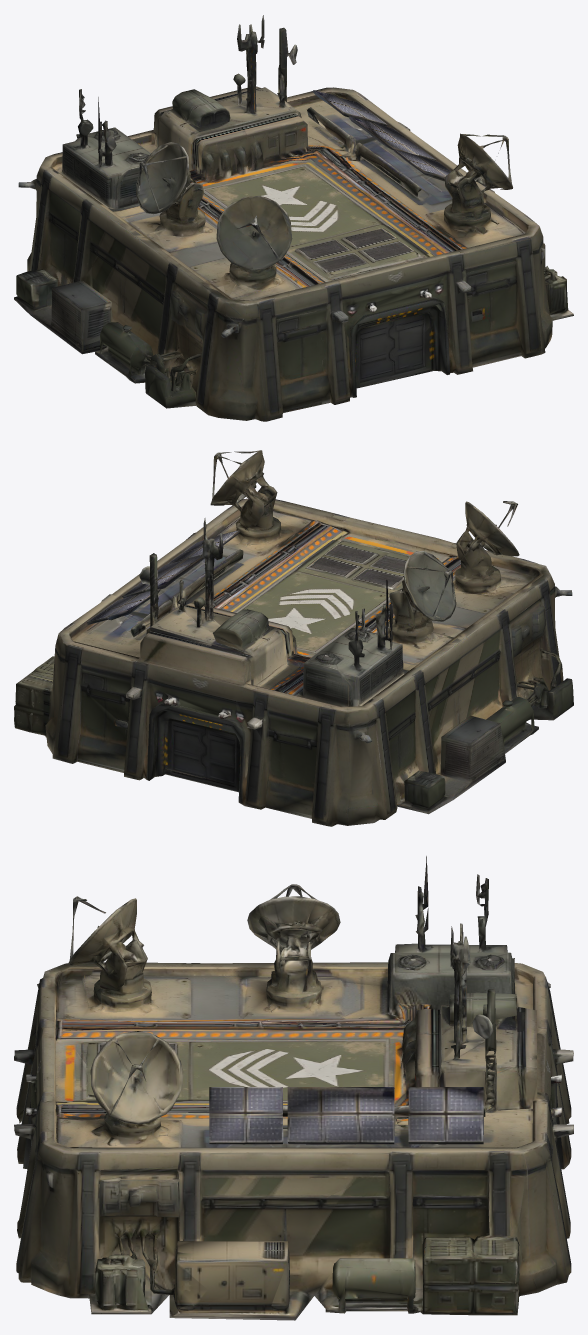
File: hq_modular.glb
3 views of the same model, one above another, from view 1: azimuth 30°, elevation 25°; view 2: azimuth 150°, elevation 25°; view 3: azimuth 270°, elevation 25° (orthographic). The views are drawn at different scales.
Visible parts, largest first — view 1: hq_modular; view 2: hq_modular; view 3: hq_modular.
Part boxes in pixels (box(x1,y1,x2,y2)): hq_modular: box(14, 15, 573, 421); hq_modular: box(14, 450, 573, 826); hq_modular: box(14, 856, 573, 1320).
Bounding box in the file's own units: 1.91 × 1.04 × 1.79.
Materials: 1 (1 with a texture image).
